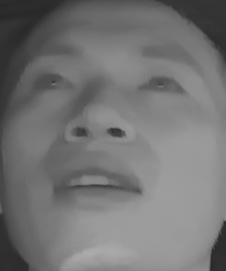eye: (133, 70, 187, 100), (31, 67, 76, 97)
mouth: (47, 154, 146, 212)
